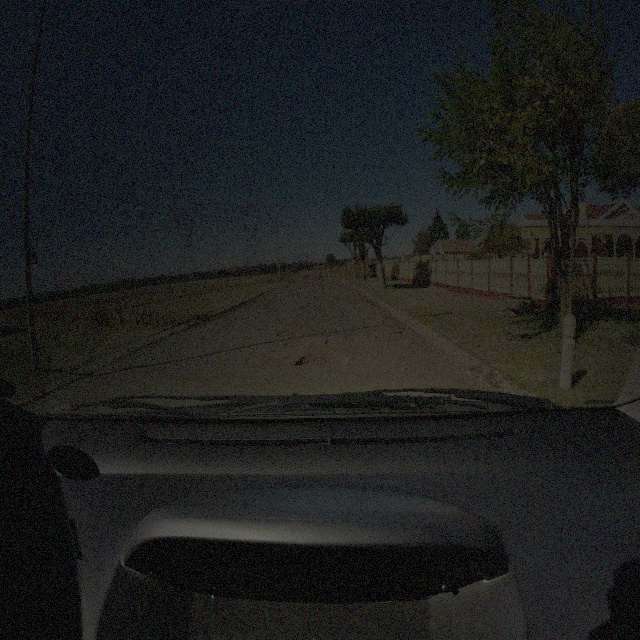pothole: (294, 352, 350, 366), (276, 328, 300, 340)
